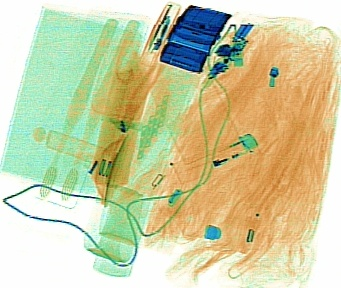lighter: (170, 130, 258, 184)
